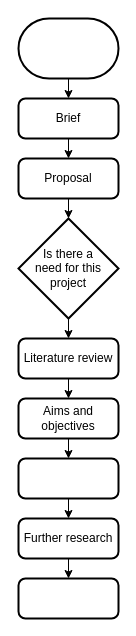
Image size: 136x636. Some labels were removed from this diagram. The box of each missing label's shape, as (x1, y1, x2, y2) in pixels:
Project planning: (17, 457, 119, 499)
Sketches: (17, 577, 119, 619)
Start Sep 2020: (17, 17, 119, 79)
